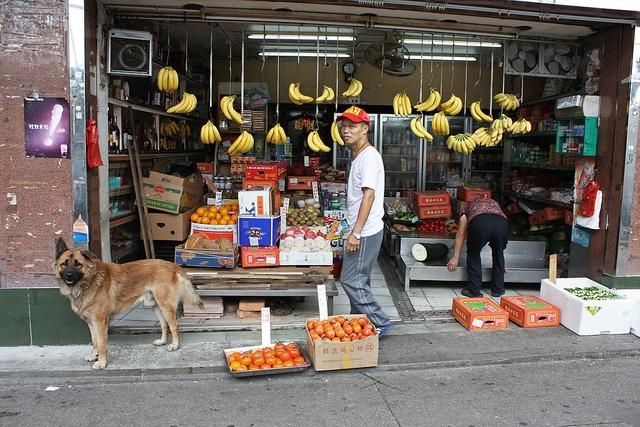banana: (227, 98, 244, 124), (416, 90, 436, 112), (416, 116, 434, 140), (474, 100, 494, 121), (424, 89, 440, 111), (222, 97, 235, 120), (470, 101, 484, 122), (294, 84, 312, 100), (176, 94, 190, 112), (344, 78, 358, 96), (236, 130, 248, 151), (448, 98, 462, 116), (308, 131, 320, 151), (334, 123, 344, 146), (238, 133, 250, 152), (444, 97, 458, 113), (393, 92, 402, 116), (242, 133, 253, 152), (181, 96, 193, 113), (316, 86, 328, 102), (351, 79, 362, 96), (289, 84, 300, 100), (162, 67, 169, 91), (463, 135, 474, 150), (324, 86, 334, 102), (464, 135, 476, 148), (278, 126, 286, 144), (168, 66, 174, 90), (402, 93, 408, 117), (460, 135, 468, 152), (436, 112, 442, 134), (204, 122, 210, 144), (481, 133, 491, 146), (488, 131, 496, 147), (208, 122, 214, 143), (266, 128, 274, 143), (398, 93, 403, 117), (440, 112, 446, 132), (444, 113, 449, 136), (523, 118, 531, 132), (512, 120, 520, 134), (501, 96, 510, 108), (316, 132, 324, 145), (506, 96, 512, 111), (165, 76, 170, 93), (457, 136, 462, 153), (274, 124, 278, 145), (496, 95, 508, 102), (502, 115, 508, 128), (278, 130, 282, 145), (522, 127, 527, 135), (294, 102, 304, 105), (417, 136, 427, 139), (503, 128, 506, 134)
tomato: (240, 355, 252, 366), (288, 347, 300, 358), (274, 342, 286, 352), (265, 356, 277, 366), (253, 356, 265, 366), (343, 324, 353, 335), (230, 361, 241, 371), (252, 352, 263, 362), (335, 328, 345, 339), (235, 364, 248, 372), (314, 326, 324, 336), (326, 329, 336, 339), (280, 351, 290, 361), (292, 356, 304, 364), (352, 324, 361, 334), (362, 327, 372, 336), (314, 320, 324, 329), (228, 354, 237, 364), (331, 322, 342, 330), (336, 316, 345, 325), (306, 320, 314, 330), (310, 332, 320, 340), (286, 344, 296, 352), (236, 354, 246, 362), (358, 318, 367, 326), (260, 364, 272, 370), (248, 364, 260, 370), (294, 360, 306, 366), (246, 361, 255, 369), (283, 360, 294, 366), (272, 363, 284, 368), (262, 348, 272, 354), (322, 322, 332, 328), (330, 317, 338, 324), (232, 352, 241, 358), (351, 336, 360, 342), (343, 321, 352, 327), (210, 219, 218, 225), (334, 326, 342, 332), (350, 332, 358, 338), (276, 358, 284, 364), (357, 332, 364, 338), (322, 338, 332, 342), (439, 220, 444, 226), (424, 224, 430, 229), (248, 355, 253, 361), (430, 220, 436, 224), (288, 357, 294, 361), (428, 227, 434, 231), (421, 221, 426, 225), (437, 218, 442, 222), (439, 227, 444, 231), (254, 350, 262, 352), (418, 228, 422, 232), (434, 227, 439, 230), (370, 334, 376, 336), (365, 320, 367, 324), (422, 218, 426, 220)
